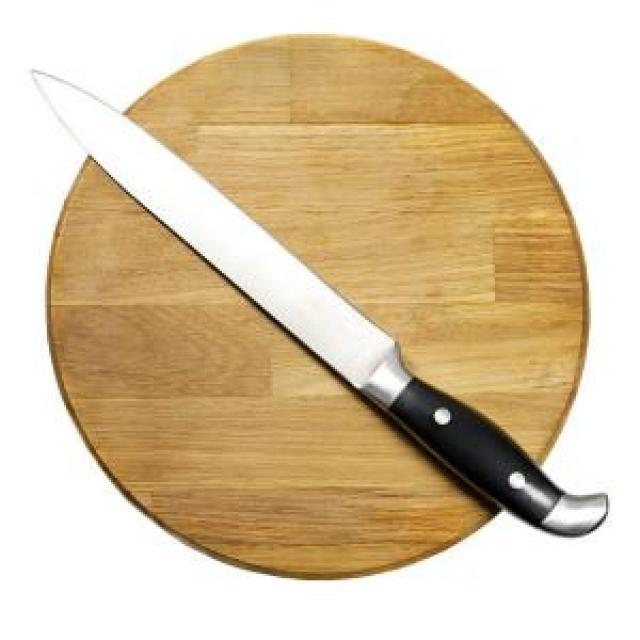knife: (28, 64, 608, 542)
